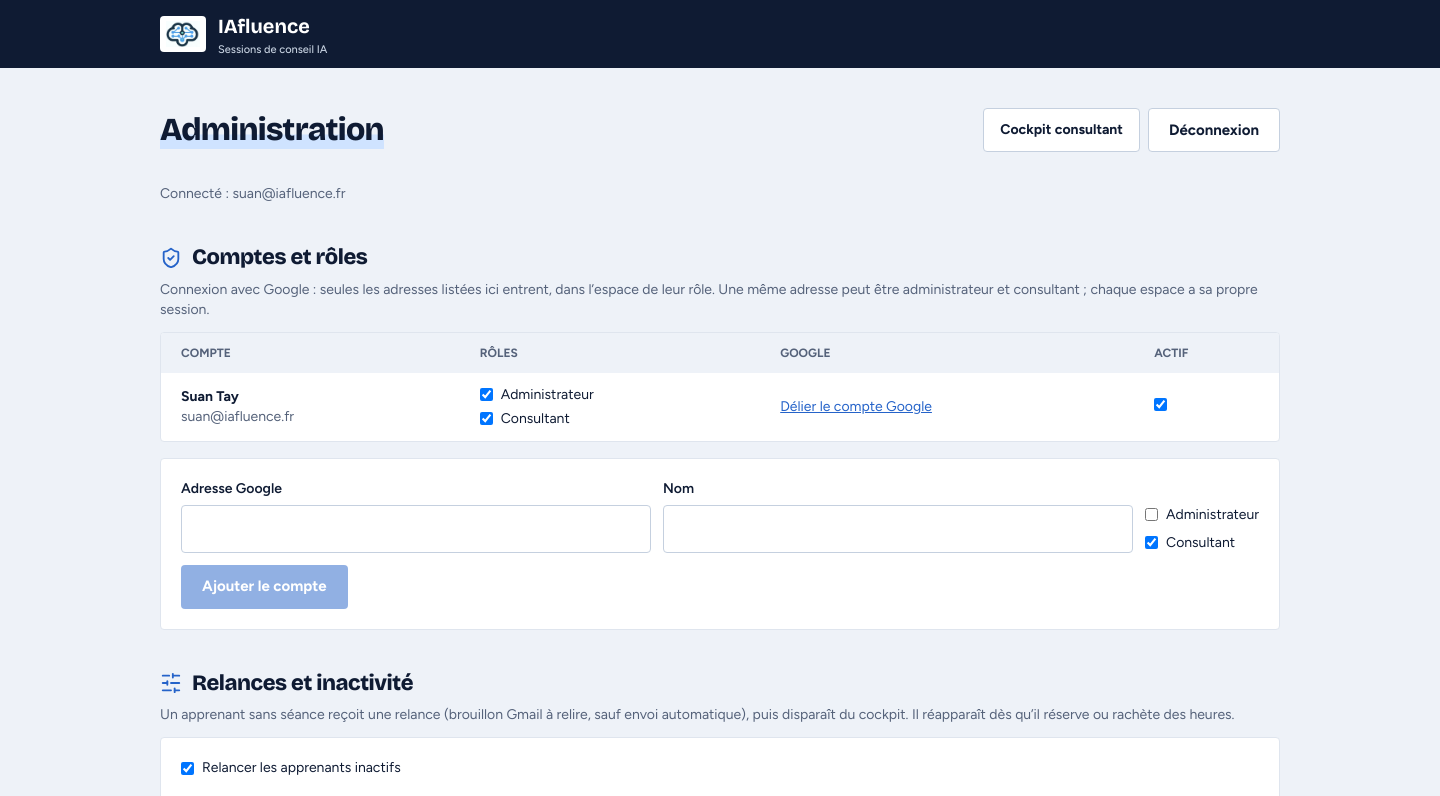
Staff accounts › adds an account
Expected: the button "Ajouter le compte" is disabled, [181,564,348,608]
In the field labelled "Adresse Google": {"x": 416, "y": 528} [181,504,651,552], type "claire@exemple.fr"
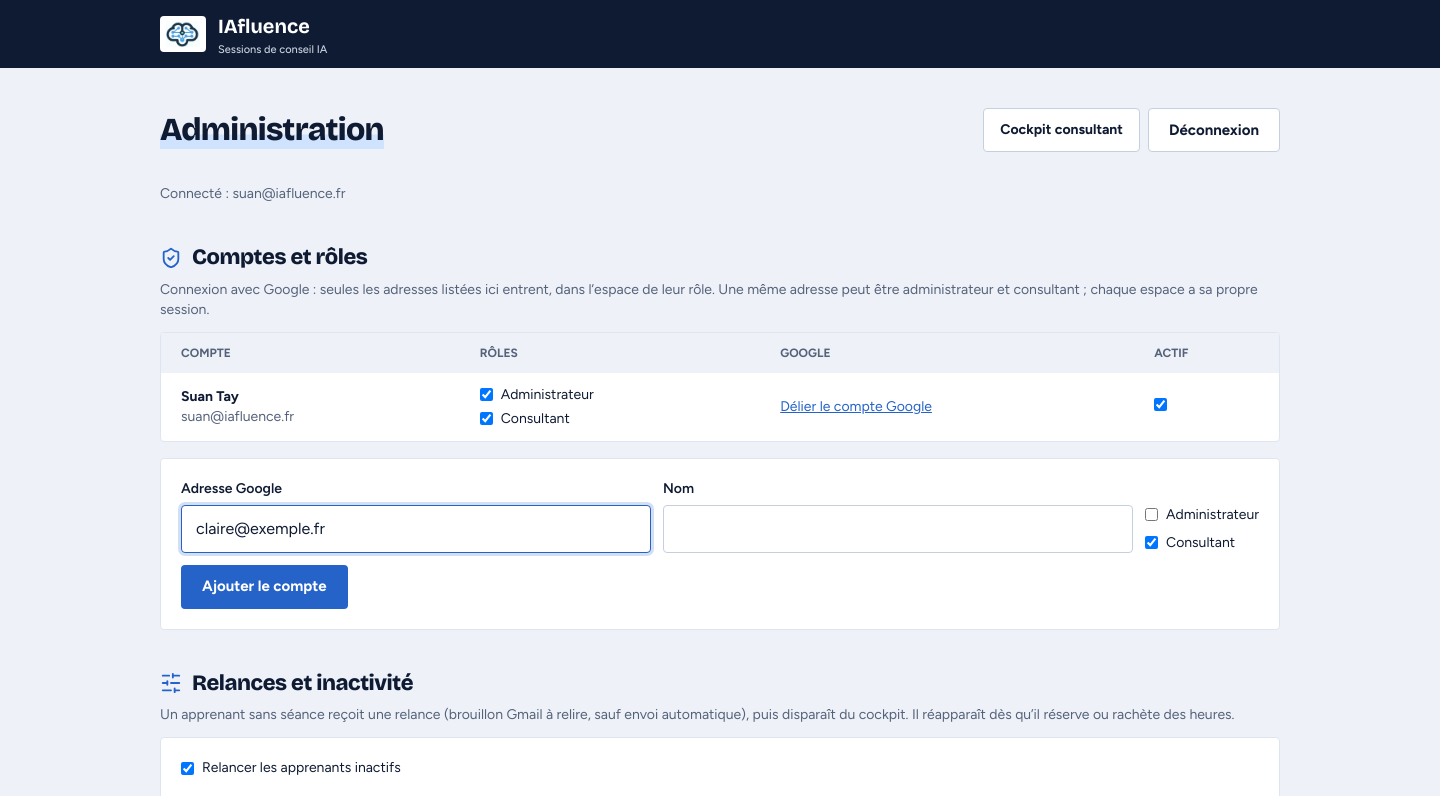
In the field labelled "Nom": {"x": 898, "y": 528} [663,504,1133,552], type "Claire"
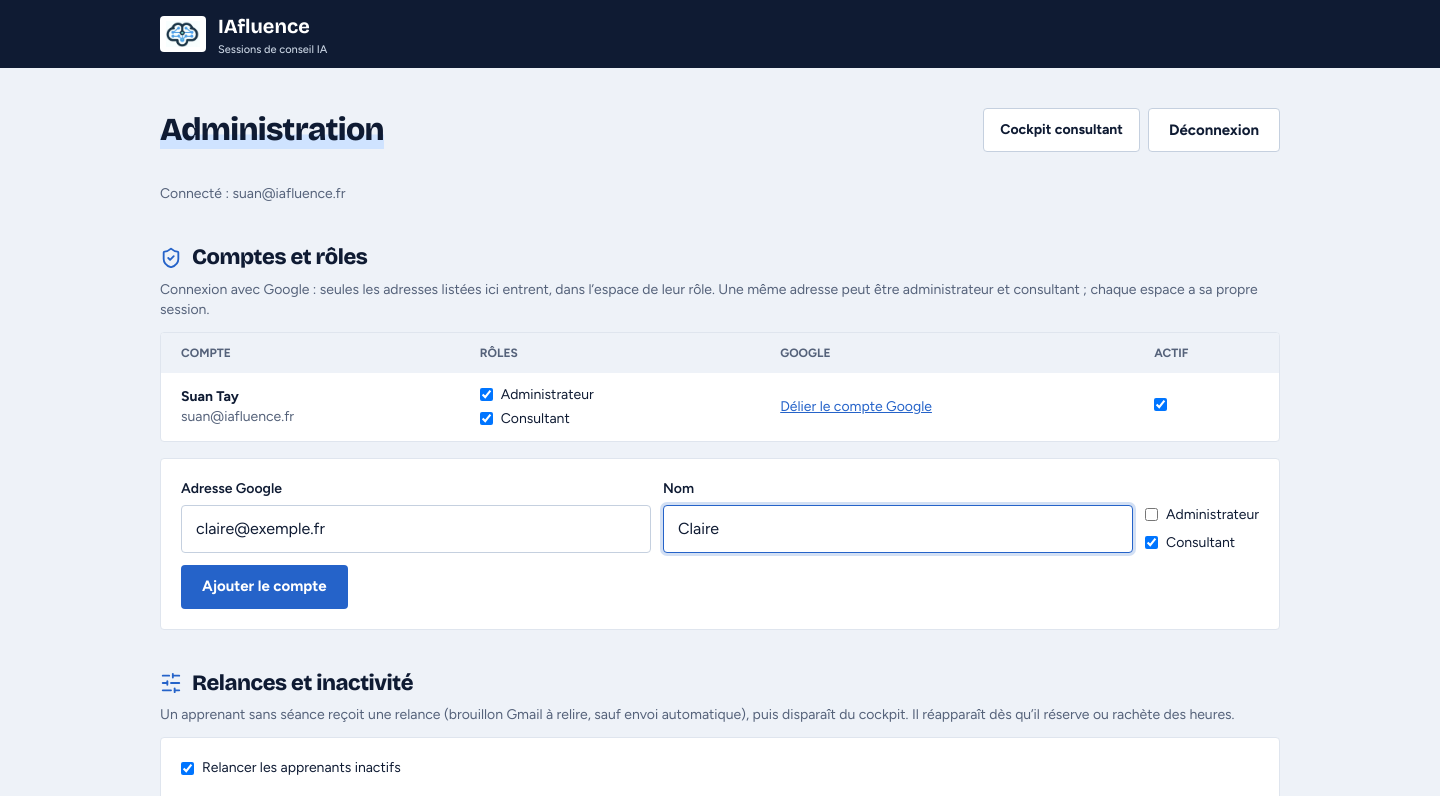
Click the 2nd checkbox labelled "Administrateur": {"x": 1152, "y": 514} [1145,508,1158,521]
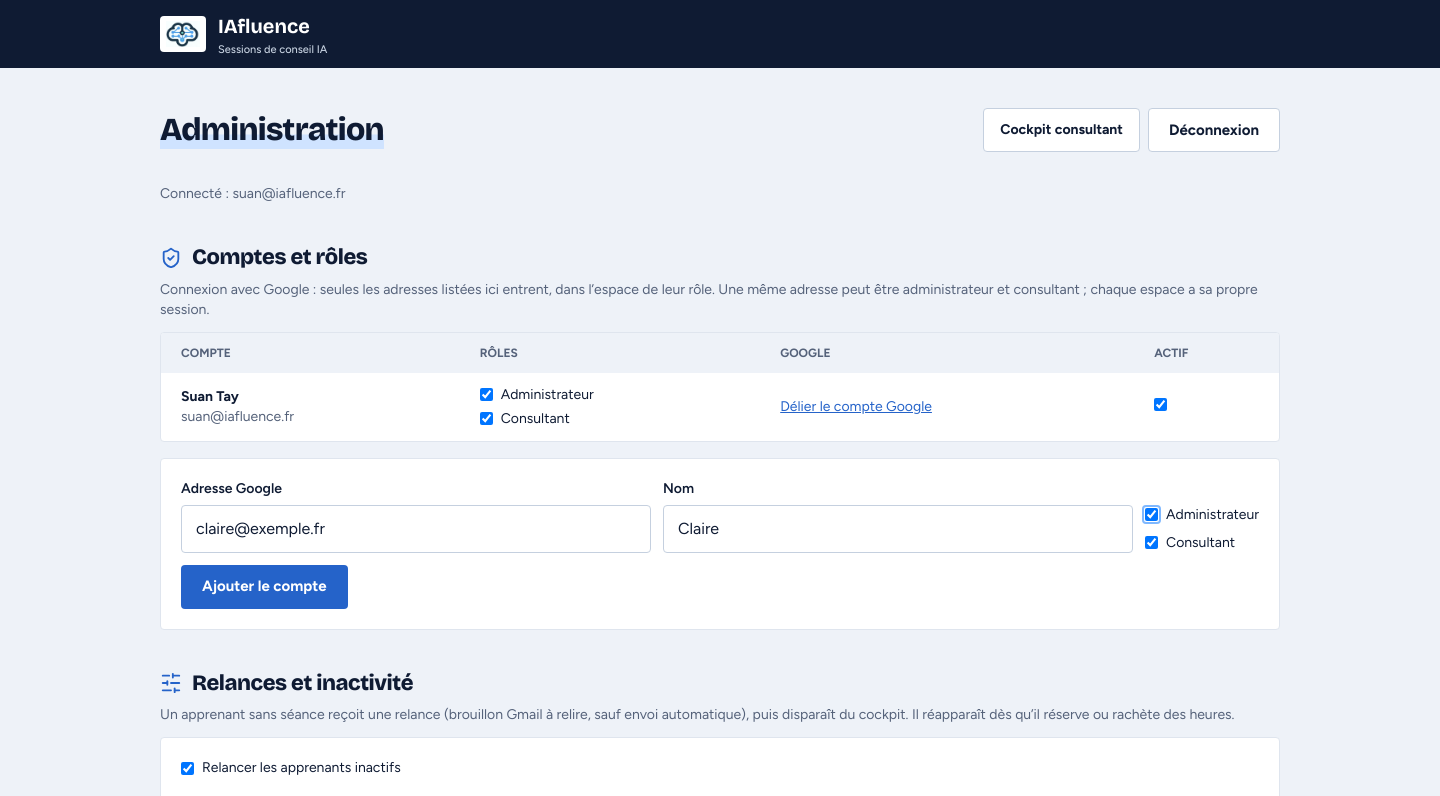
Click the button "Ajouter le compte": {"x": 264, "y": 586} [181,564,348,608]
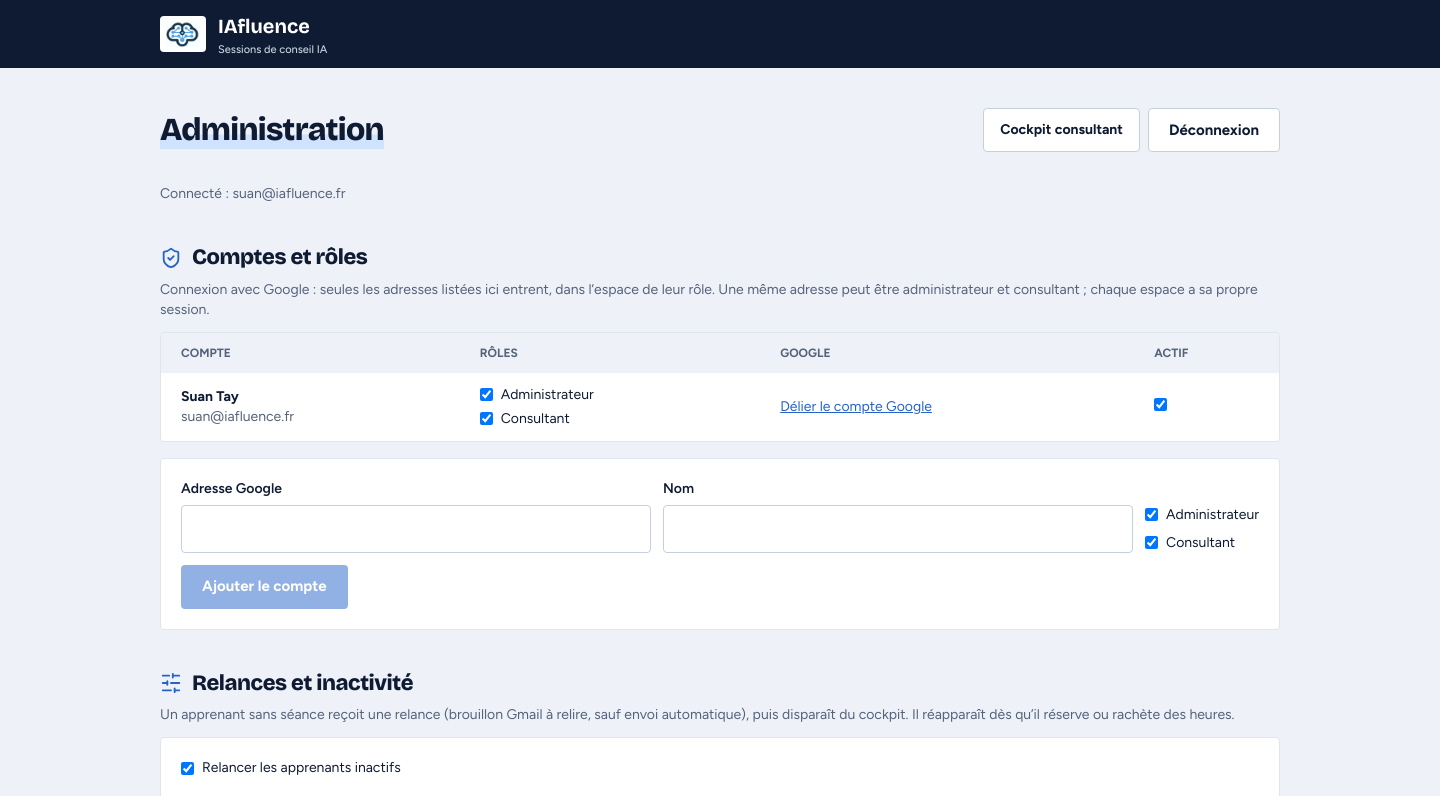
Now the button named "Ajout…" is disabled, box [181,564,348,608]
Now the button "Ajouter le compte" is disabled, box [181,564,348,608]
Now the field labelled "Adresse Google" is empty, box [181,504,651,552]
